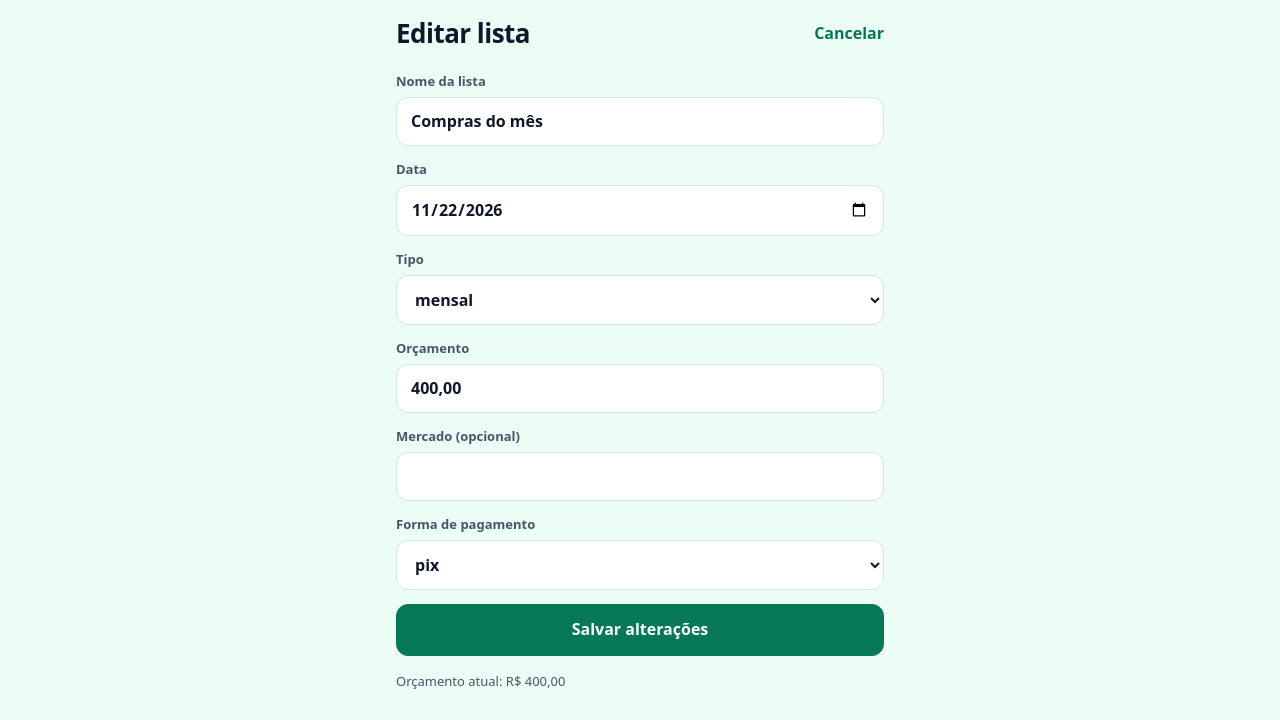
R6: editar lista › altera nome e orçamento preservando os itens já adicionados
Replace the text in the field labelled "Nome da lista" with "Compras de dezembro" at coordinates (640, 121), box [396,97,884,146]
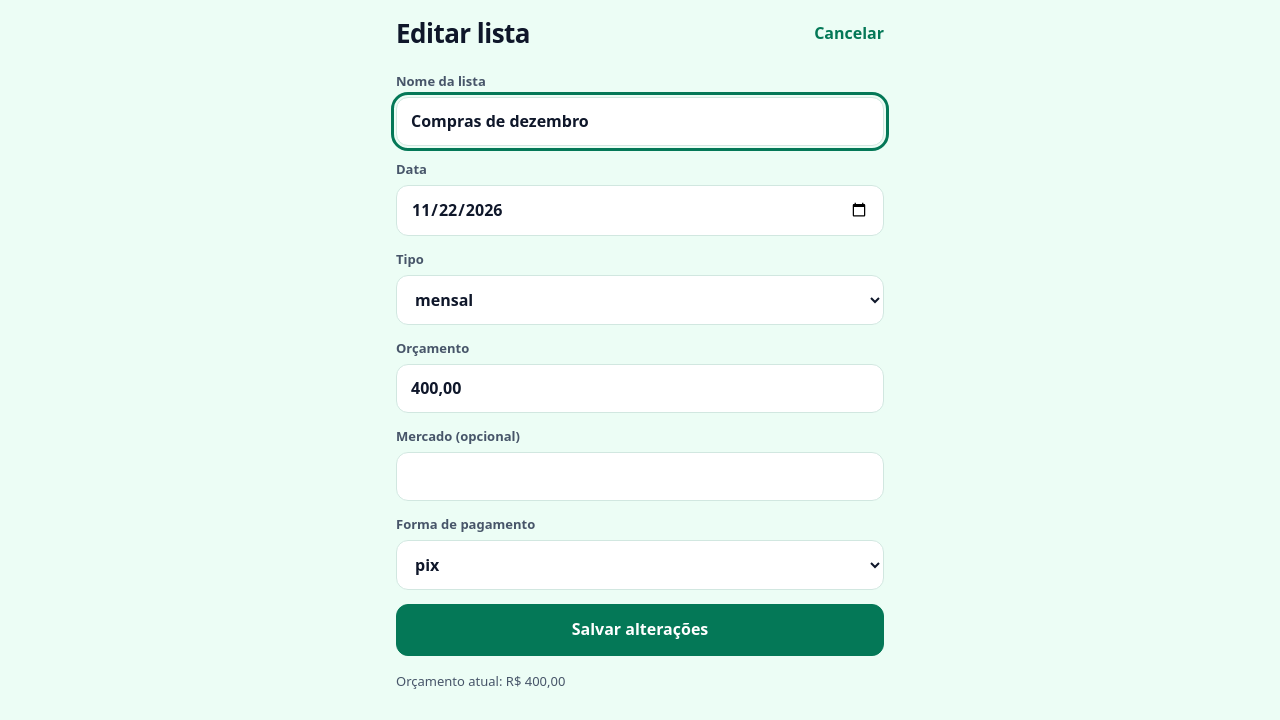
Replace the text in the field labelled "Orçamento" with "500,00" at coordinates (640, 388), box [396,364,884,413]
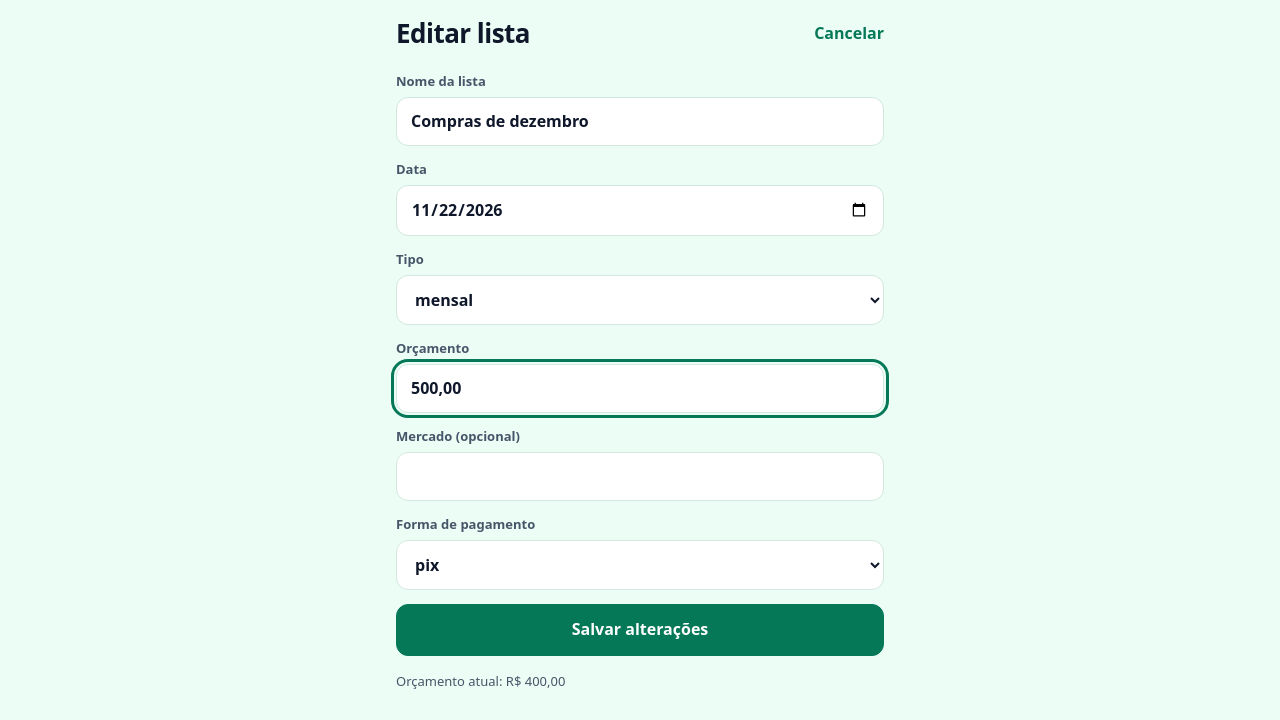
Click the button "Salvar alterações" at coordinates (640, 630), box [396,604,884,656]
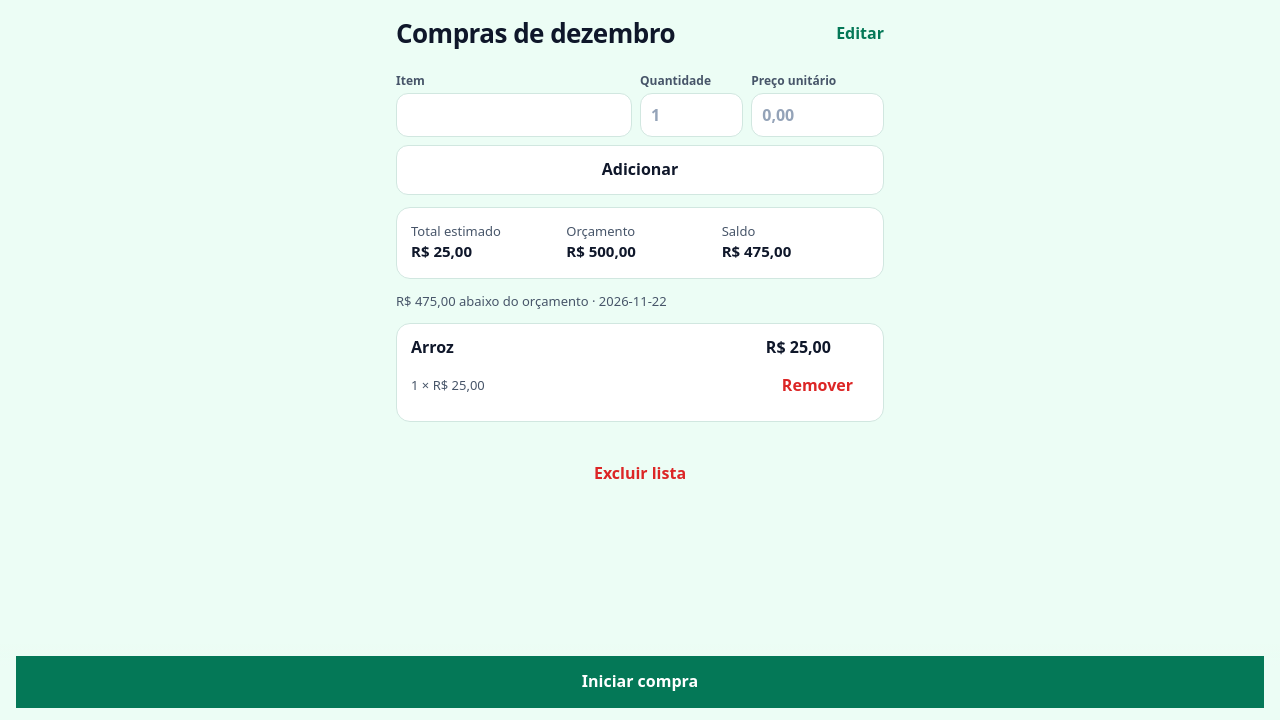
Check: the heading "Compras de dezembro" is shown, box [396,19,675,49]
